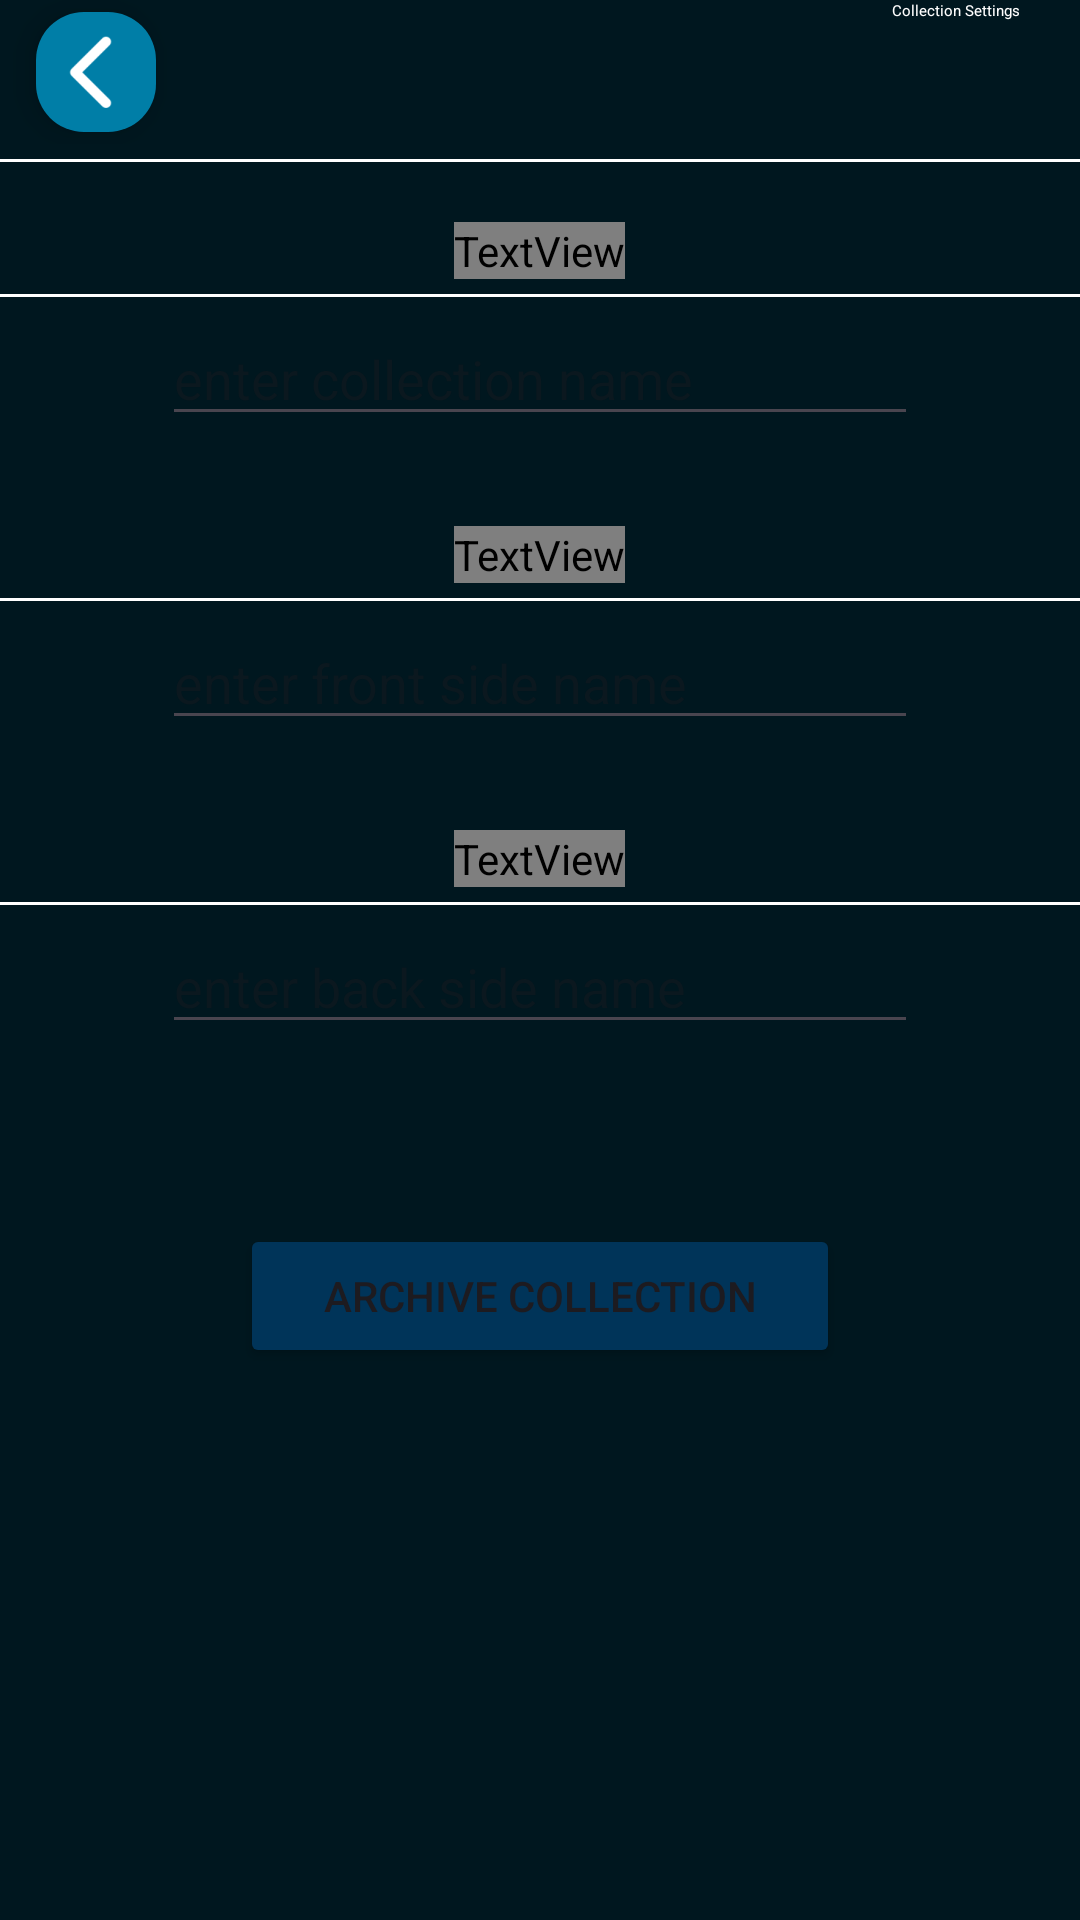

Screen size 1080w x 1920h. Icon name, then its center in pixels as (x=x, y=y):
back: (x=96, y=72)
